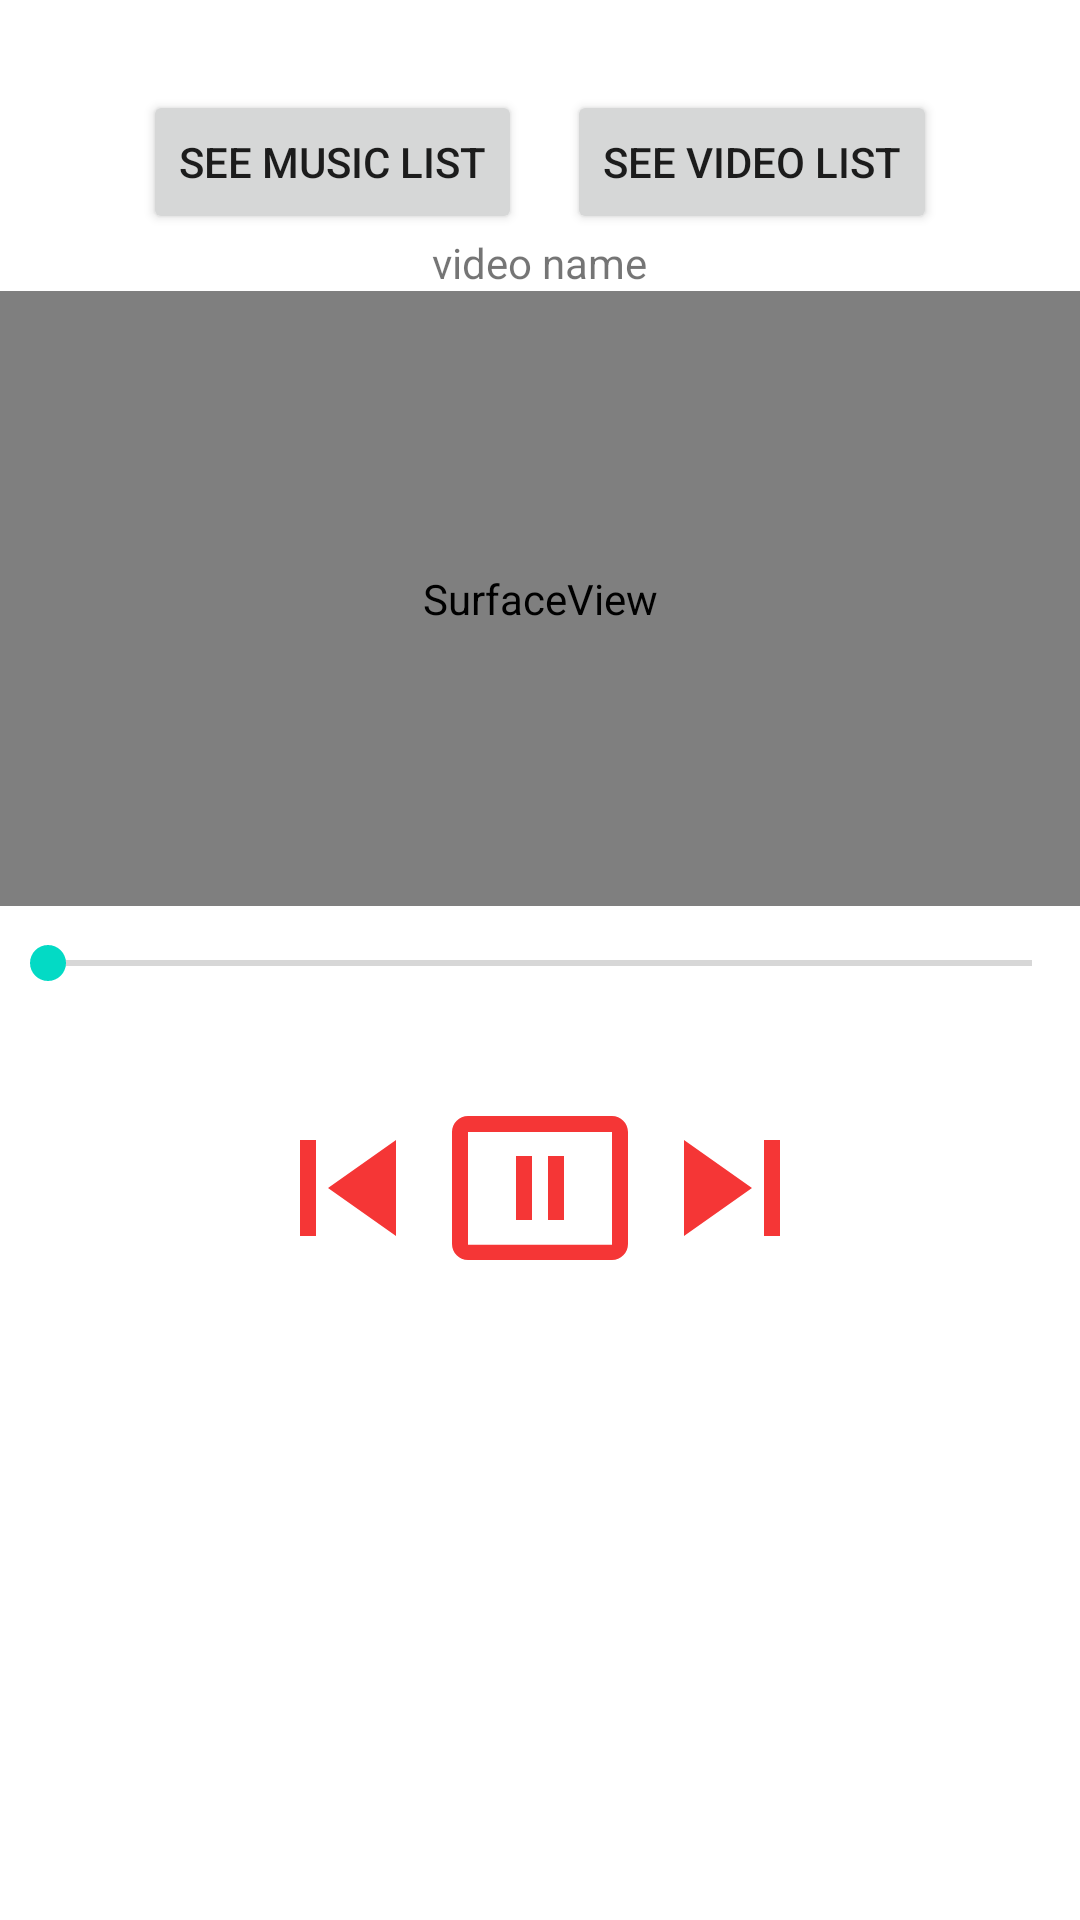

Named icons in this screenshot (1080px×1920px) and their bounding boxes, (x1, y1, x2, y2):
pause presentation: (452, 1116, 628, 1260)
skip next: (684, 1140, 780, 1236)
skip previous: (300, 1140, 396, 1236)
